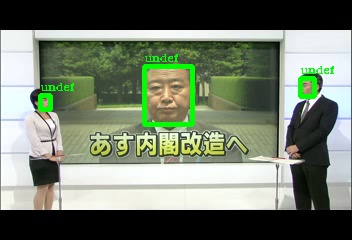man: (139, 52, 196, 123), (298, 71, 322, 98)
woman: (29, 88, 51, 110)
